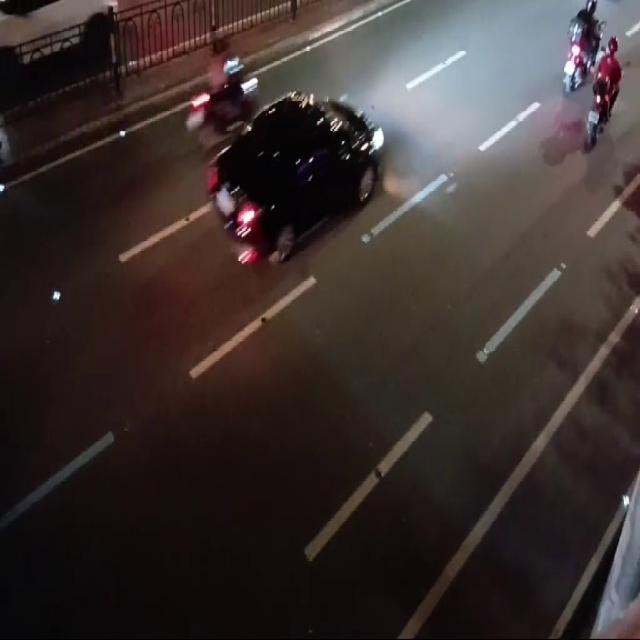car: (198, 93, 386, 263)
motorcycle: (184, 33, 258, 137), (581, 31, 623, 166)
